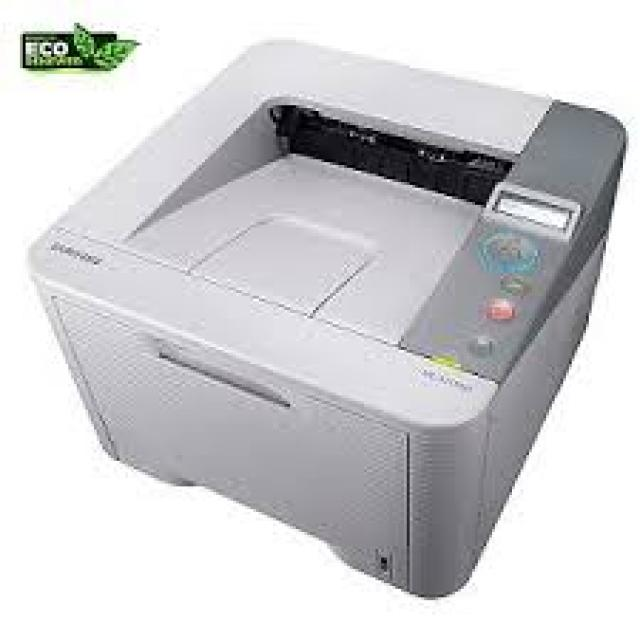printer: (25, 36, 629, 602)
